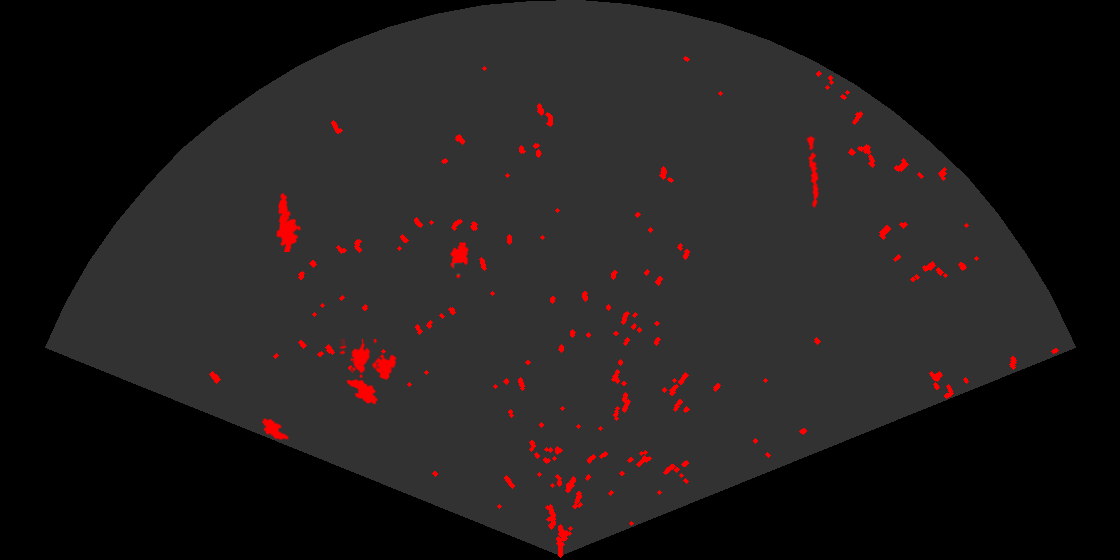AUV: (345, 378, 379, 406), (449, 240, 470, 280), (260, 416, 291, 442)
cage: (340, 339, 399, 382)
chain: (805, 134, 821, 209)
frogman: (275, 191, 303, 252)
